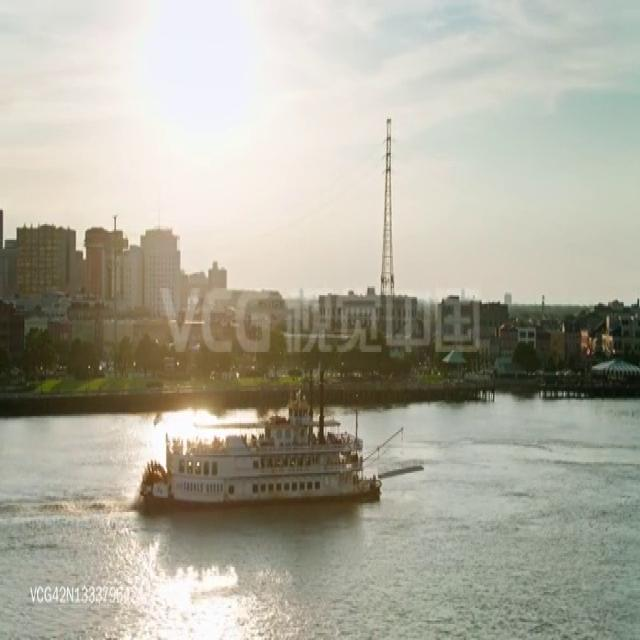passenger ship: (138, 397, 388, 503)
